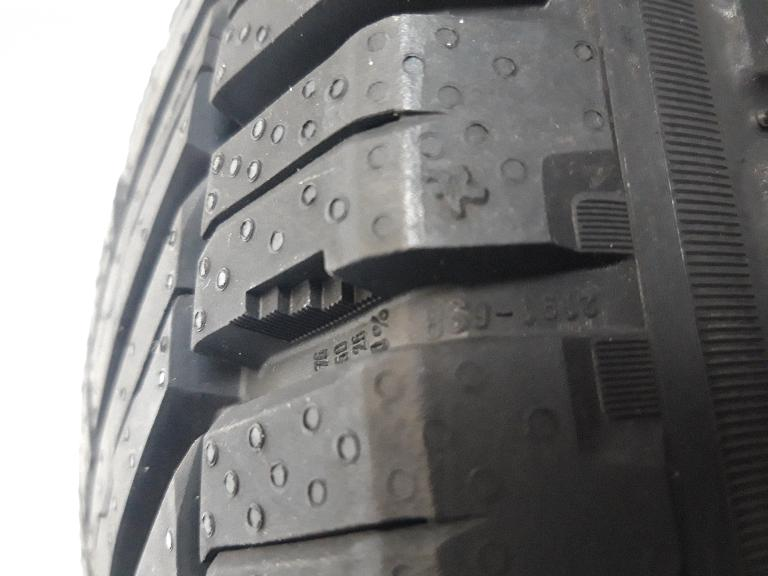temoin:100: (228, 247, 386, 346)
